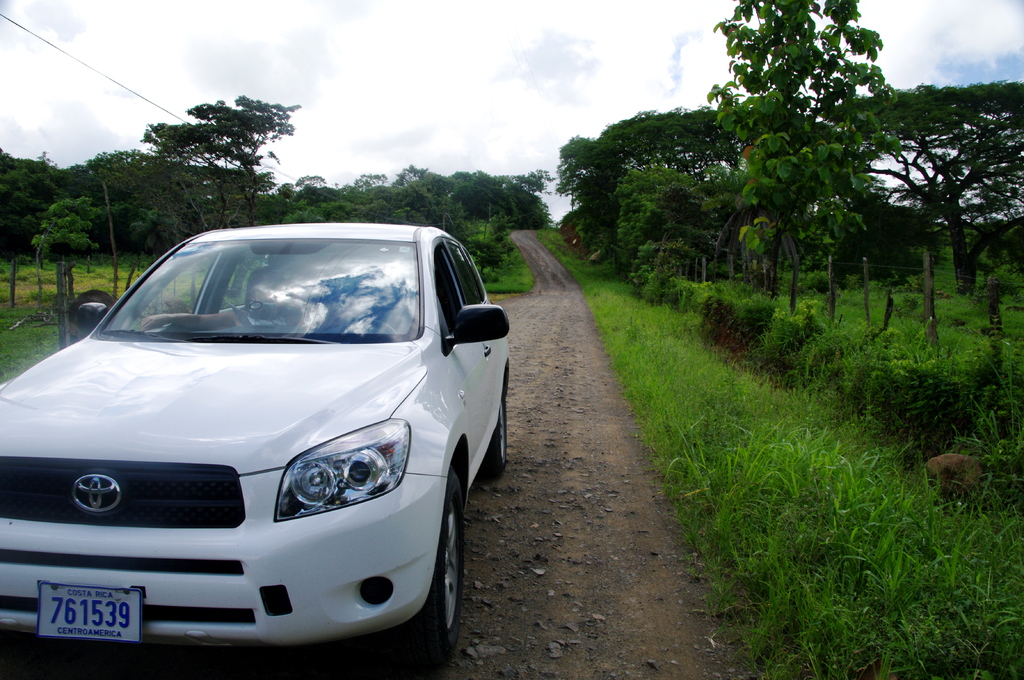Car: (0, 221, 508, 679)
